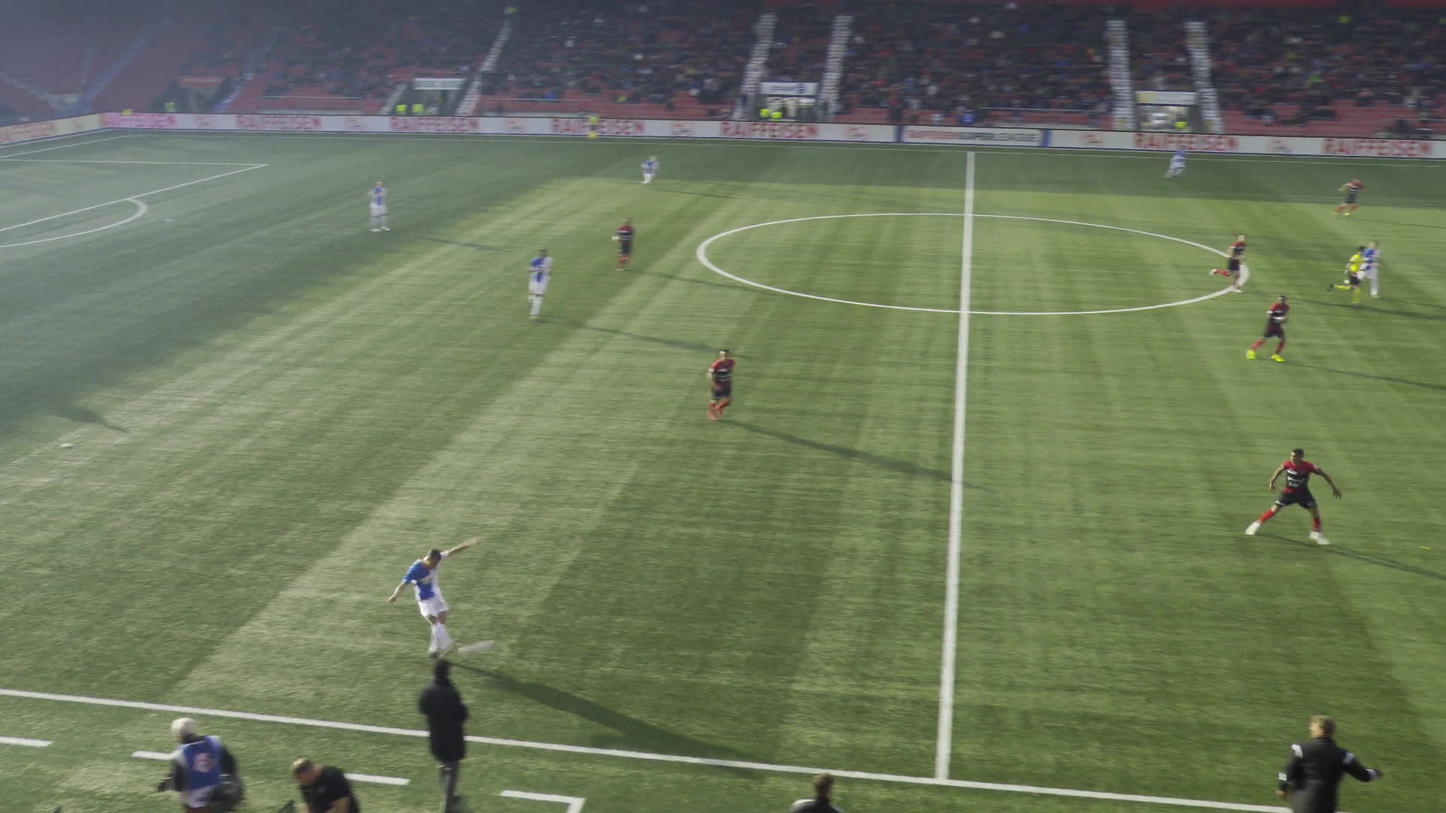ball: (461, 638, 487, 656)
player: (388, 533, 476, 661), (1255, 449, 1344, 544), (1252, 296, 1295, 363), (709, 349, 743, 423), (1216, 232, 1255, 291), (525, 248, 553, 319), (1364, 241, 1388, 299), (372, 178, 398, 230), (619, 213, 642, 271), (1341, 178, 1372, 221), (1162, 136, 1188, 181), (645, 153, 668, 186)
referee: (1326, 245, 1365, 306), (596, 110, 610, 142)
